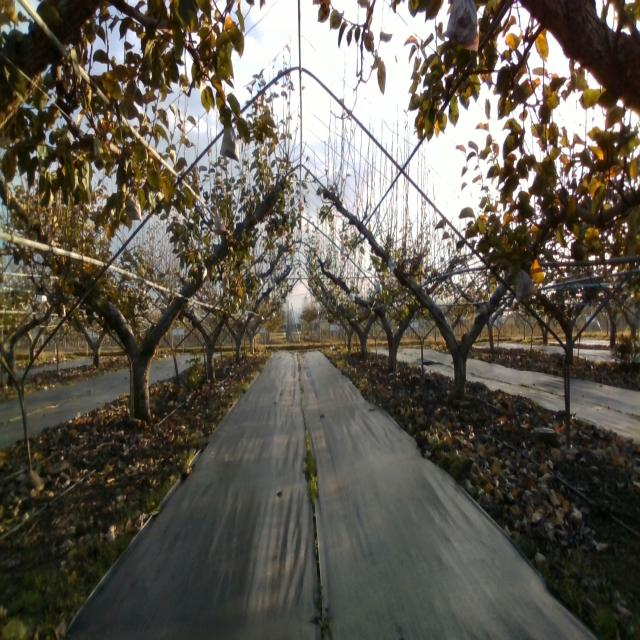pearbags: (444, 0, 480, 53), (515, 268, 537, 306), (220, 124, 239, 162), (125, 193, 143, 223), (215, 213, 228, 236)
